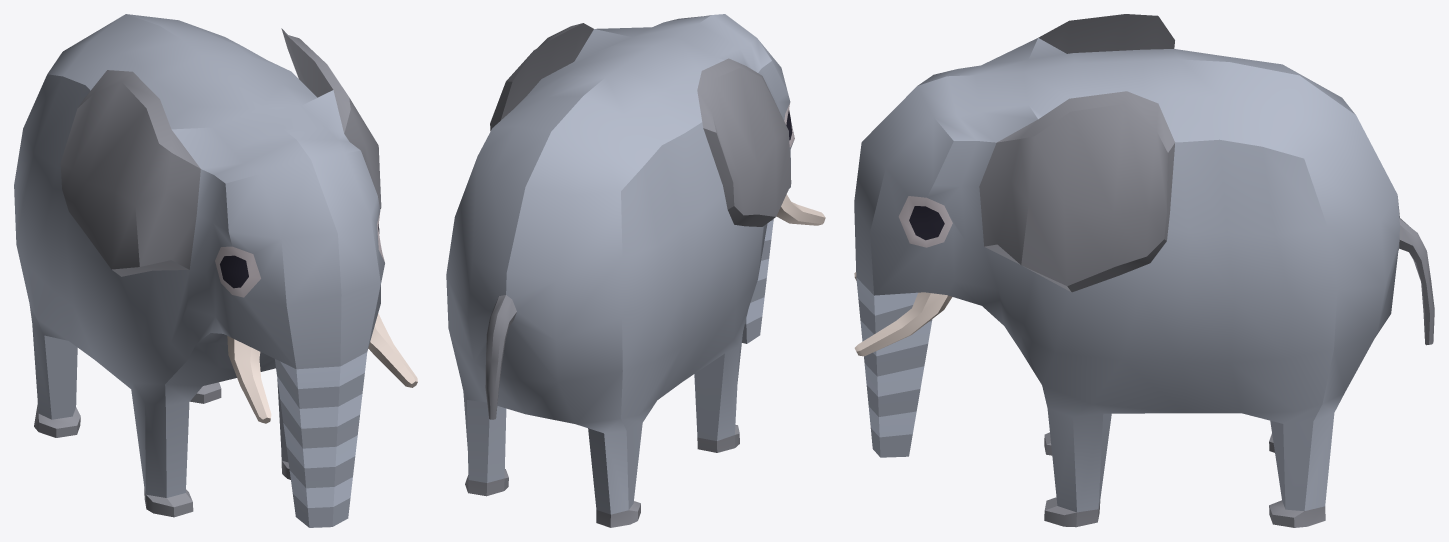
File: elephant3.glb
3 views of the same model, side by side, from view 1: azimuth 30°, elevation 25°; view 2: azimuth 150°, elevation 25°; view 3: azimuth 270°, elevation 25° (orthographic). The views are drawn at different scales.
Parts seen in each view (by area): view 1: Elephant; view 2: Elephant; view 3: Elephant.
Boxes of the visible parts, x1=… form: Elephant: x1=14, y1=14, x2=417, y2=527; Elephant: x1=446, y1=14, x2=825, y2=527; Elephant: x1=854, y1=14, x2=1434, y2=527.
Size of the model in its own units: 1.27 by 1.94 by 2.37.
